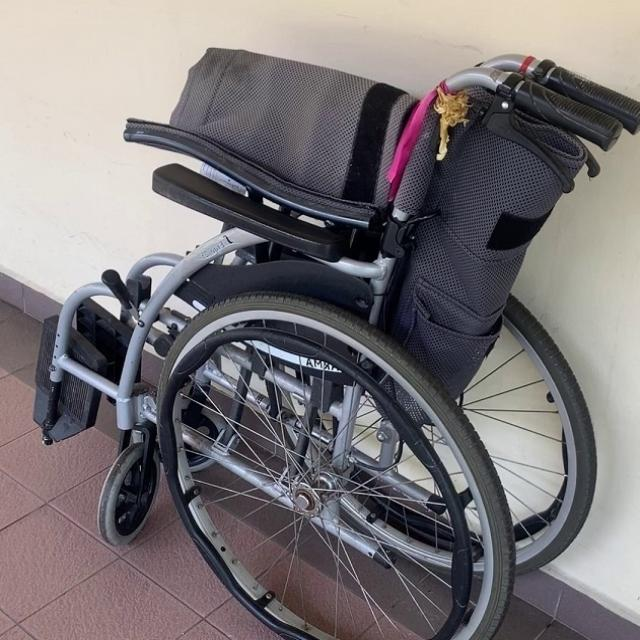wheelchair: (26, 38, 640, 640)
